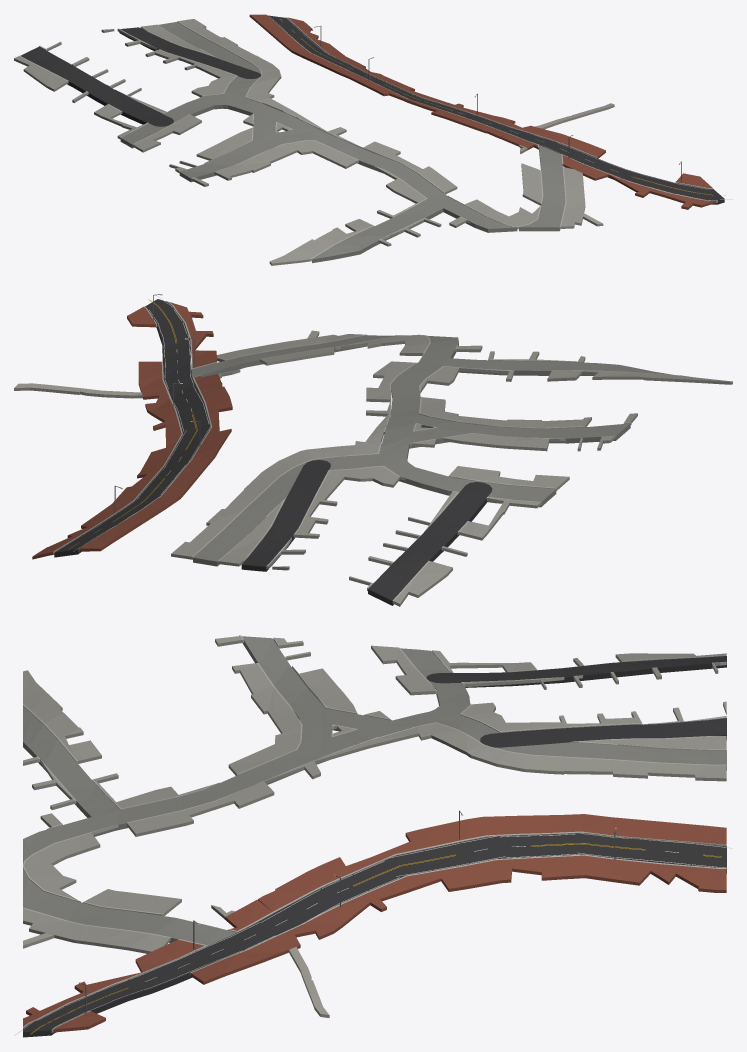
3 views of the same model, one above another, from view 1: azimuth 30°, elevation 25°; view 2: azimuth 150°, elevation 25°; view 3: azimuth 270°, elevation 25° (orthographic). The views are drawn at different scales.
Bounding box in the file's own units: 148 × 23.66 × 149.
